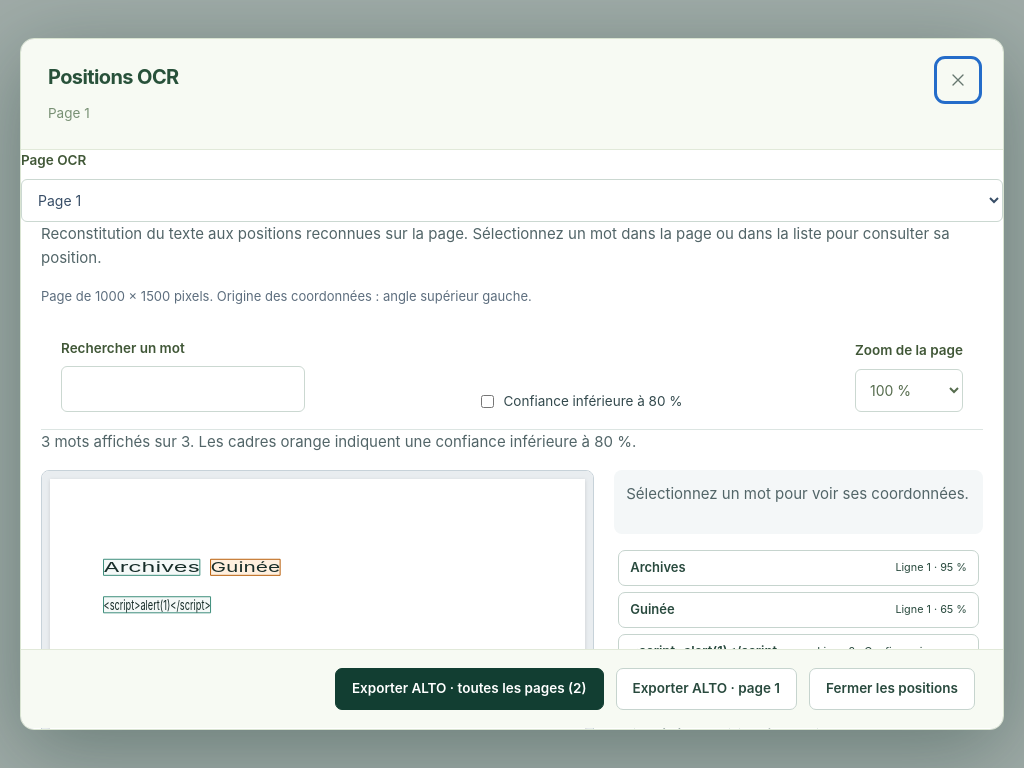
it: ne conserve ni les mots ni l’export de la page précédente si la page demandée est inaccessible
The image size is (1024, 768).
expect the element named "Mots reconnus" is shown: met, box left=614, top=546, right=983, bottom=674
Step 1. Select "Page 2" in the dropdown labelled "Page OCR" → (512, 200), box left=21, top=179, right=1003, bottom=222
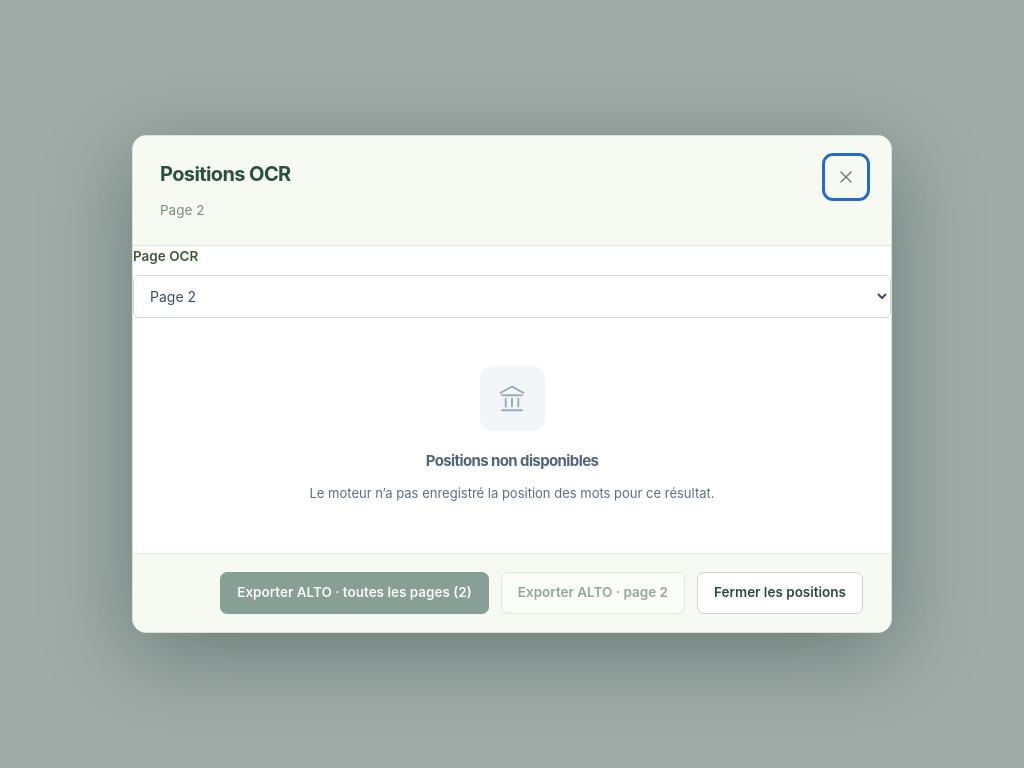
expect the heading "Positions non disponibles" is shown: met, box left=426, top=451, right=598, bottom=470
expect the button "Exporter ALTO · page 2" is disabled: met, box left=501, top=572, right=685, bottom=614
